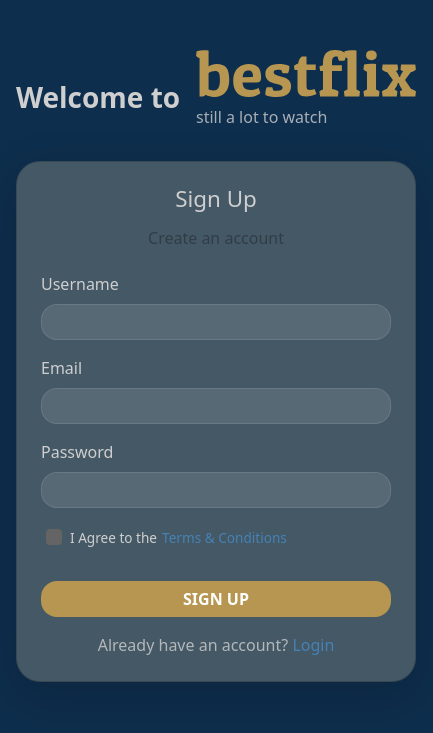
Scenario: SignupView › shows validation errors on empty submit
Click the button "Sign Up" at (216, 599), box [41,581,391,617]
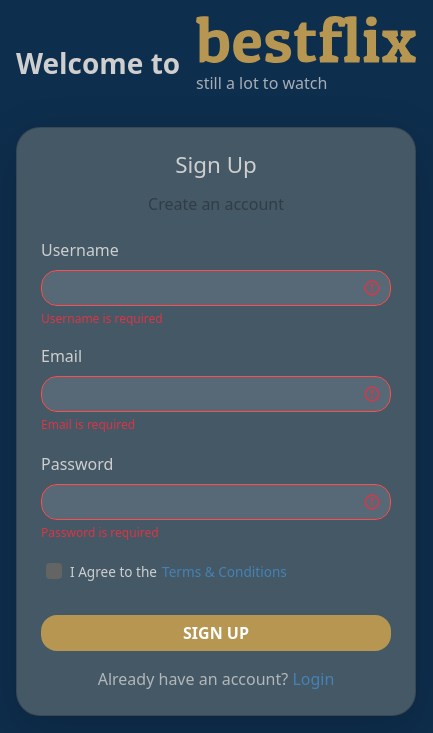
expect the text "Email is required" is shown: met, box [41,416,135,433]
